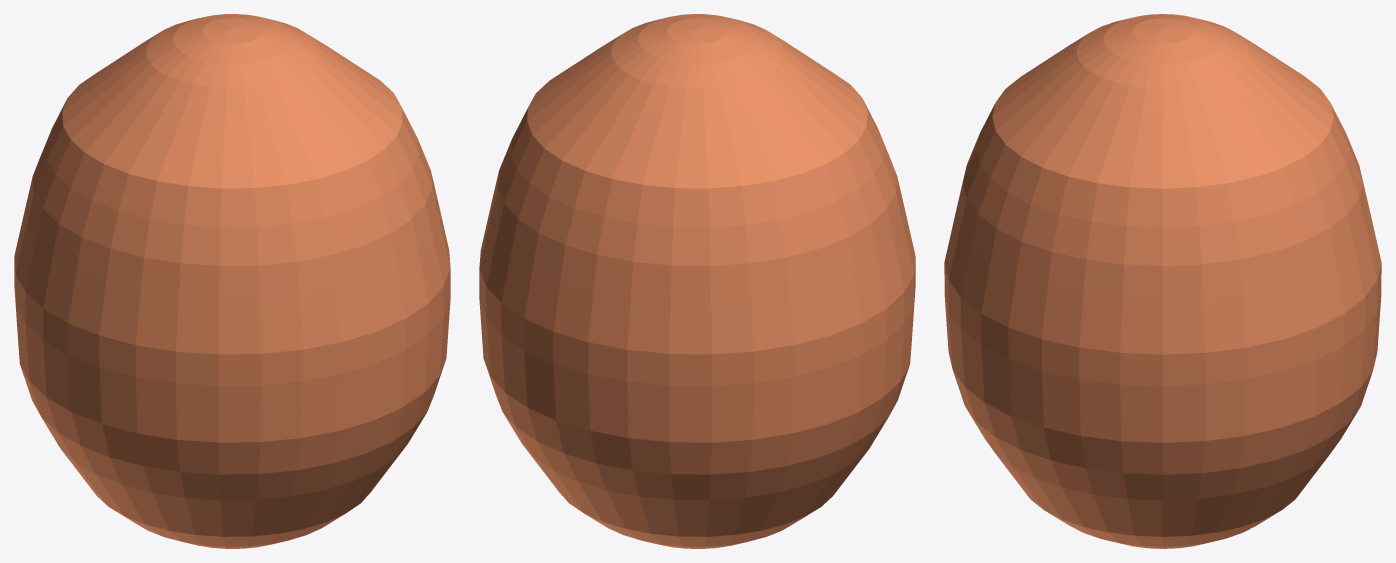
The model's file is batata.fbx.
3 views of the same model, side by side, from view 1: azimuth 30°, elevation 25°; view 2: azimuth 150°, elevation 25°; view 3: azimuth 270°, elevation 25° (orthographic).
Visible parts, largest first — view 1: Sphere; view 2: Sphere; view 3: Sphere.
Boxes of the visible parts, x1,y1,x2,y2 form: Sphere: (14, 14, 450, 548); Sphere: (479, 14, 915, 548); Sphere: (944, 14, 1381, 548).
Bounding box in the file's own units: 200 × 253 × 200.
